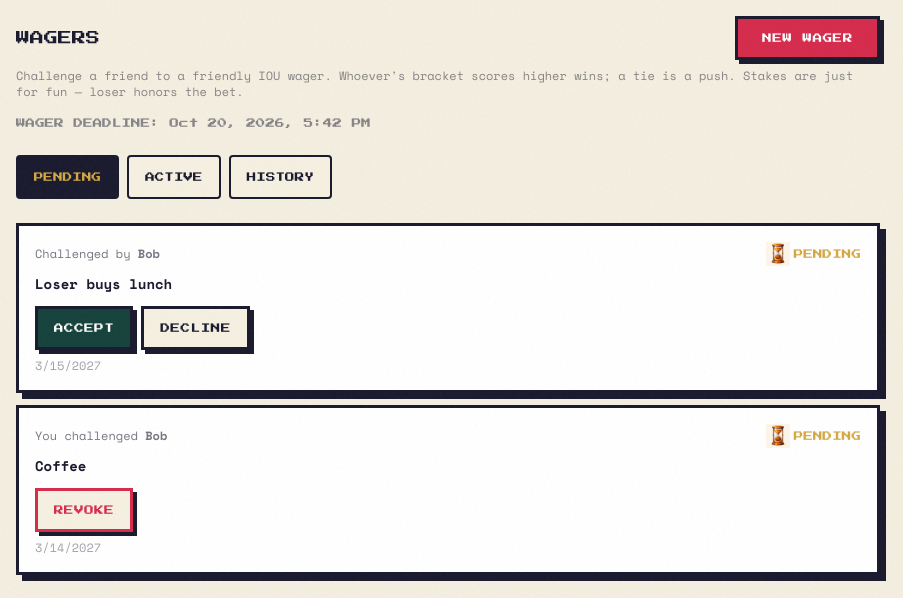
Test: WagersClient › lists pending wagers by default and switches tabs
The image size is (903, 598).
Expected: the text "Loser buys lunch" is shown, left=35, top=273, right=172, bottom=294
Expected: the text "Coffee" is shown, left=35, top=455, right=86, bottom=476
Click the tab "ACTIVE" at (174, 177), box left=127, top=155, right=221, bottom=199
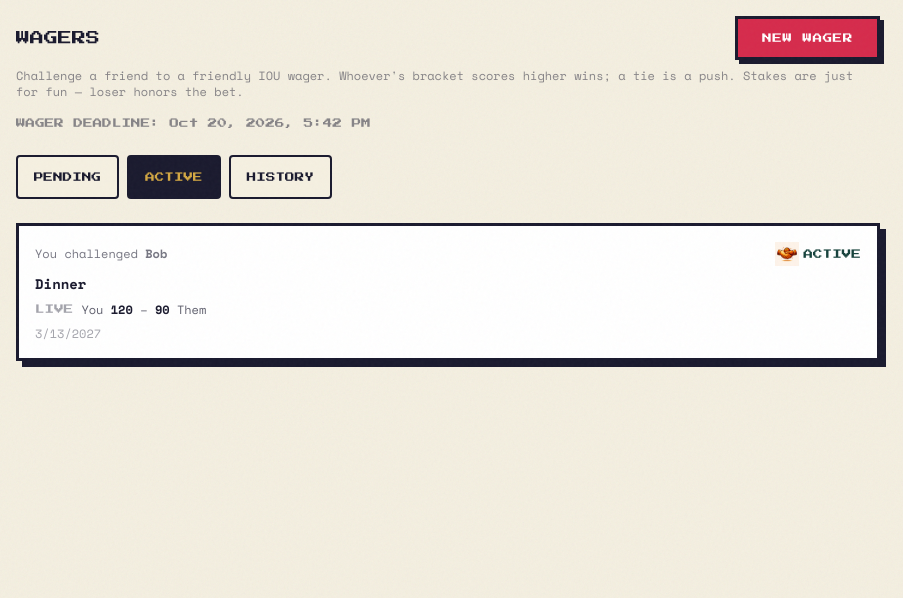
Expected: the text "Dinner" is shown, left=35, top=273, right=86, bottom=294
Expected: the text "LIVE" is shown, left=35, top=303, right=73, bottom=316
Expected: the text "120" is shown, left=111, top=301, right=133, bottom=318
Click the tab "HISTORY" at (280, 177), box left=229, top=155, right=332, bottom=199
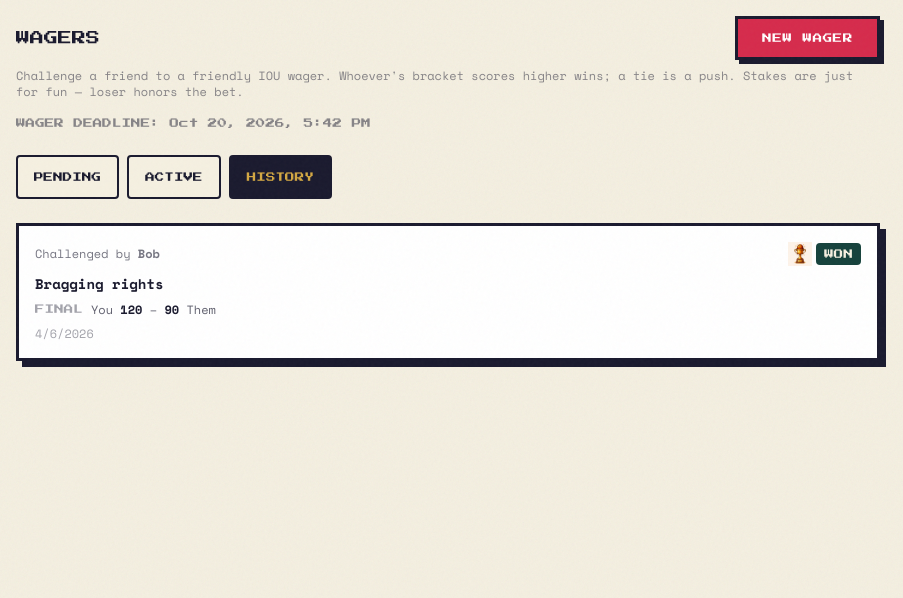
Expected: the text "Bragging rights" is shown, left=35, top=273, right=164, bottom=294
Expected: the text "WON" is shown, left=816, top=243, right=861, bottom=265
